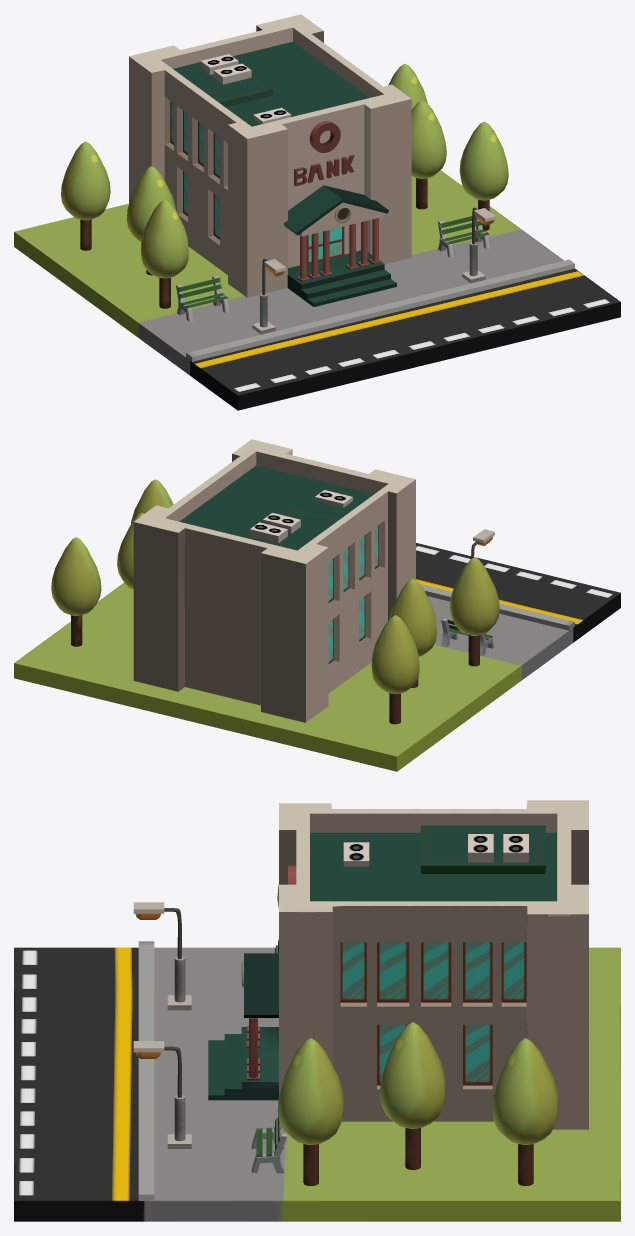
Rendered from maya2sketchfab.fbx.
3 views of the same model, one above another, from view 1: azimuth 30°, elevation 25°; view 2: azimuth 150°, elevation 25°; view 3: azimuth 270°, elevation 25° (orthographic). The views are drawn at different scales.
Visible parts, largest first — view 1: Bank_Asset; view 2: Bank_Asset; view 3: Bank_Asset.
Part boxes in pixels (left/top/right/bottom): Bank_Asset: left=14, top=14, right=620, bottom=410; Bank_Asset: left=14, top=439, right=620, bottom=771; Bank_Asset: left=14, top=800, right=620, bottom=1221.
Size of the model in its own units: 148 by 64.4 by 150.
Materials: 1 (1 with a texture image).
